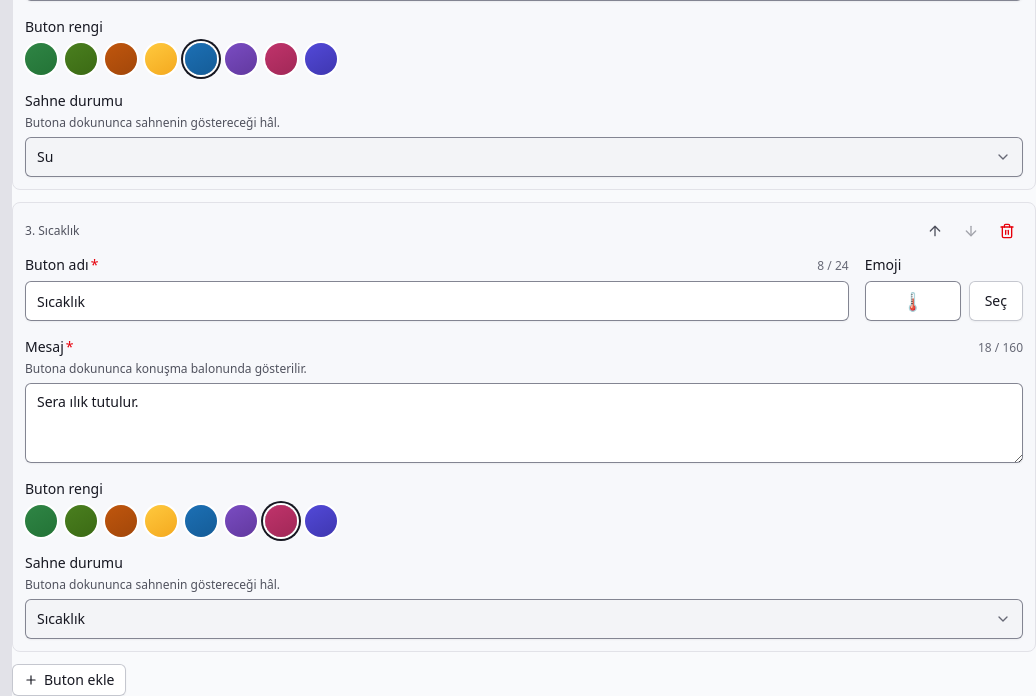
BlockFieldsEditor › explore-hotspots: adds items with fresh ids up to the schema maximum (6)
(page scrolled)
Click the button "Buton ekle": [69, 680] box [12,664,126,695]
(page scrolled)
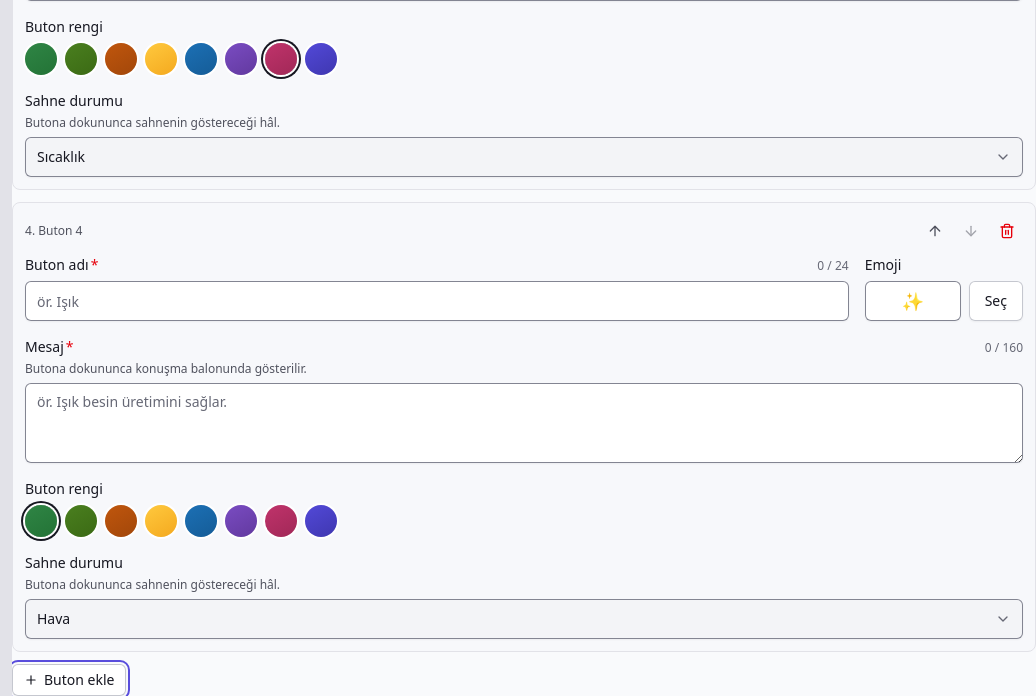
Click the button "Buton ekle": [69, 680] box [12,664,126,695]
(page scrolled)
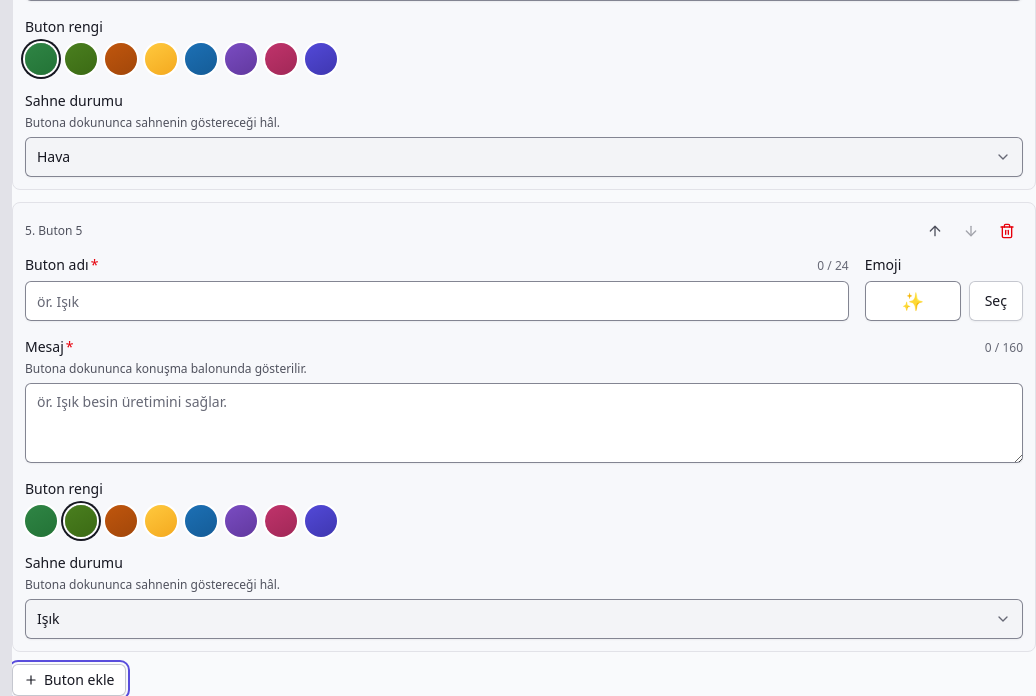
Click the button "Buton ekle": [69, 680] box [12,664,126,695]
(page scrolled)
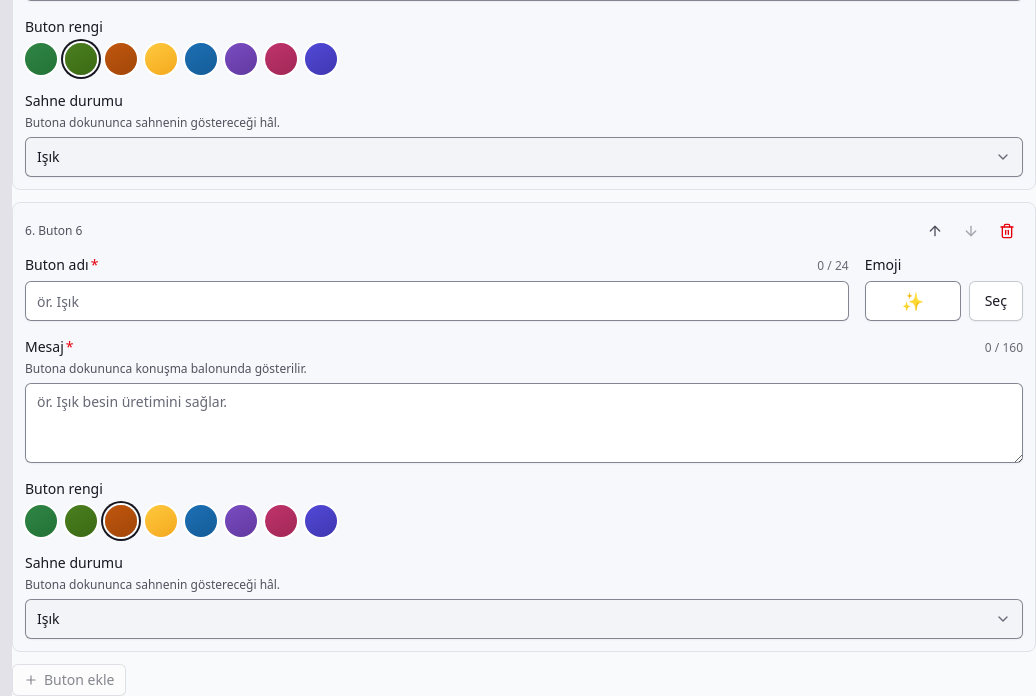
Expected: the button "Buton ekle" is disabled, [12,664,126,695]
